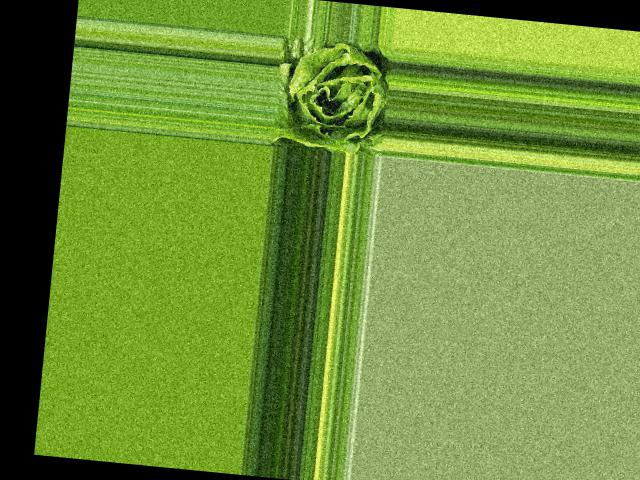lettuce: (271, 36, 391, 155)
